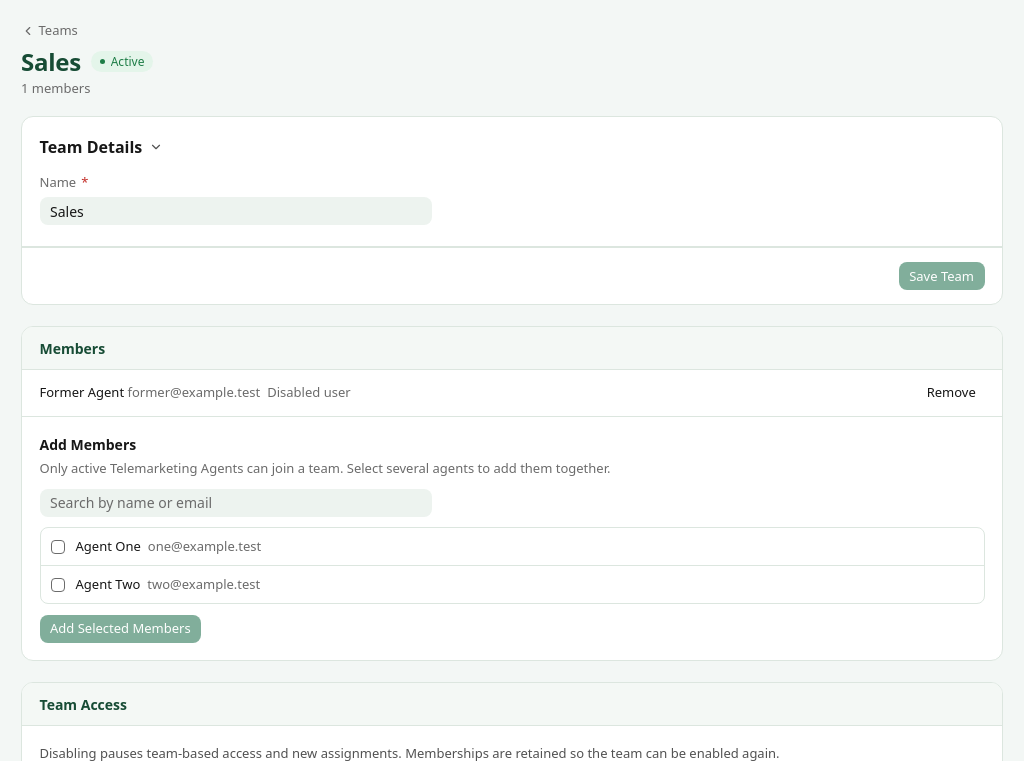
Test: Flexible team management › edits the name and adds several users without hiding disabled existing members
Expected: the heading "Sales" is shown, [21,48,81,76]
Expected: the link "Former Agent former@example.test" is shown, [40,383,260,401]
Replace the text in the field labelled "Name *" with "New Sales": [236, 211] box [40,197,432,225]
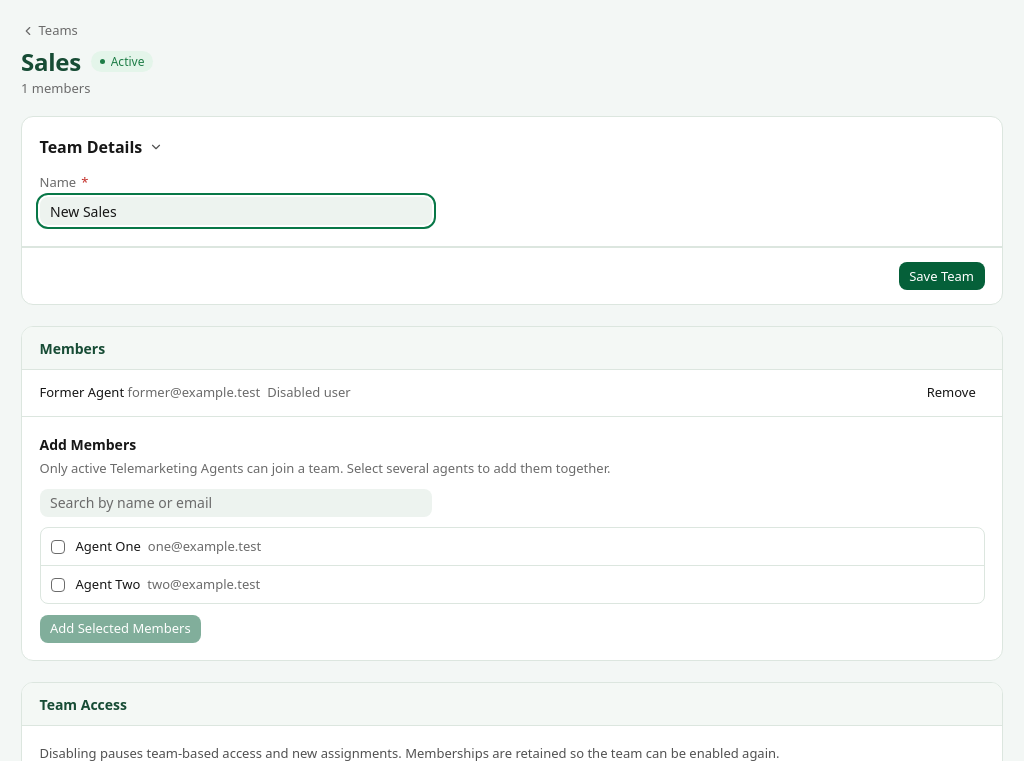
Click the button "Save Team": [942, 276] box [899,262,984,290]
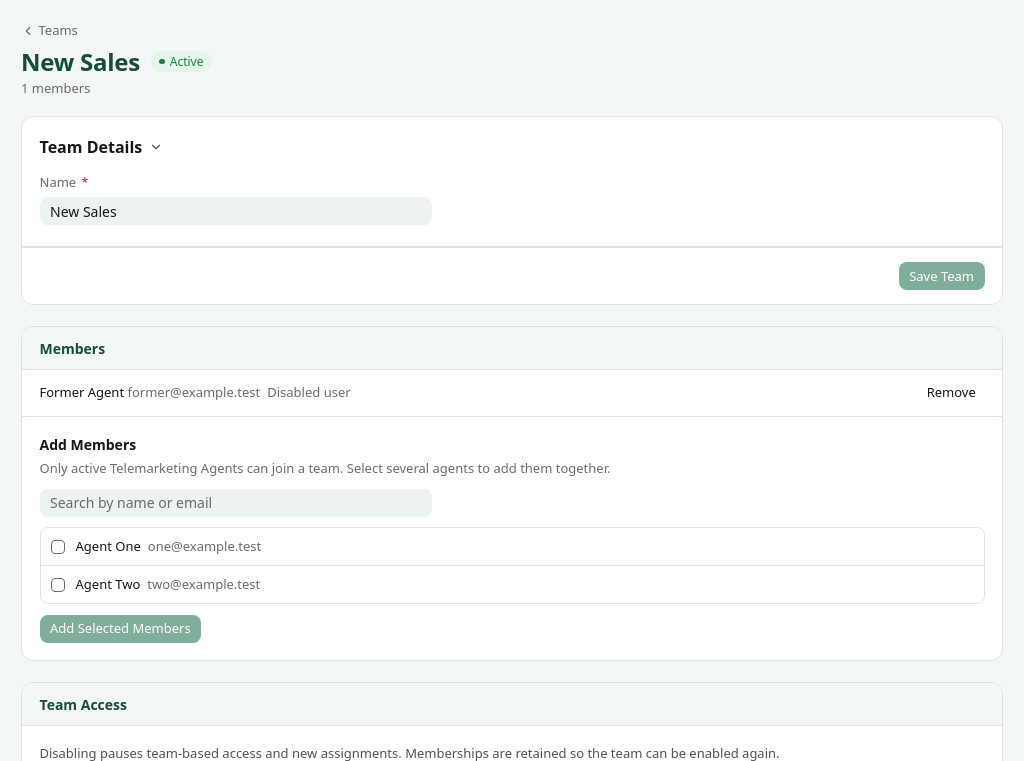
Result: the heading "New Sales" is shown at [21,48,140,76]
Click the checkbox named "Agent One" next to "Agent One": [58, 547] box [51,540,65,554]
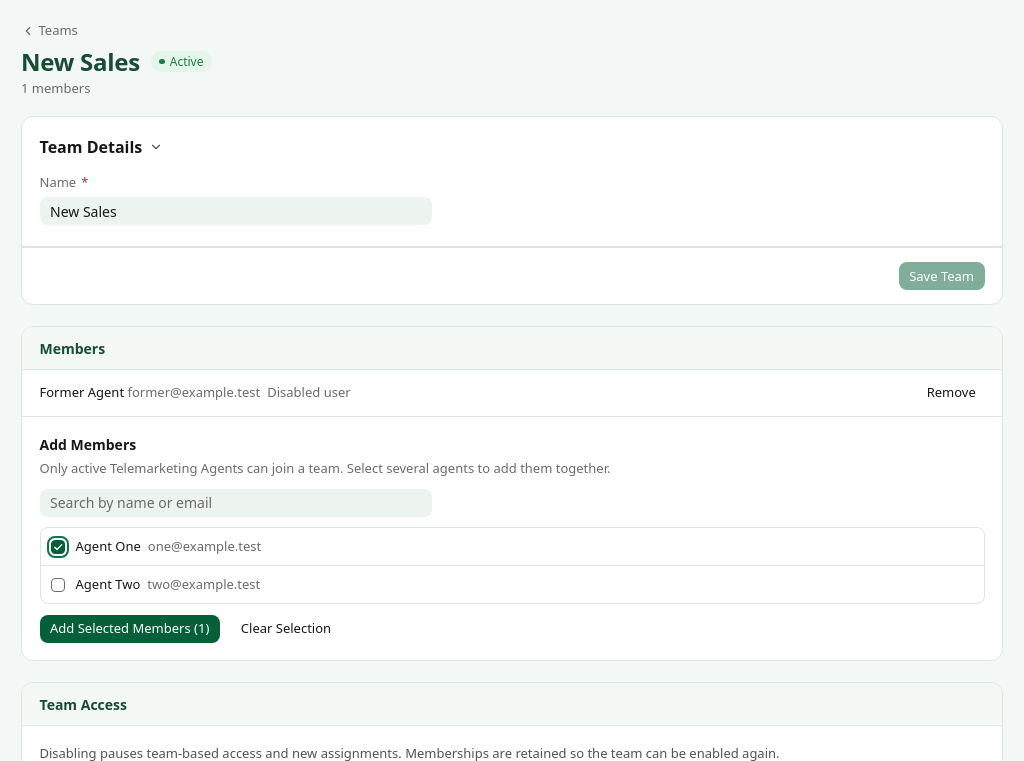
Click the checkbox named "Agent Two" next to "Agent Two": [58, 585] box [51,578,65,592]
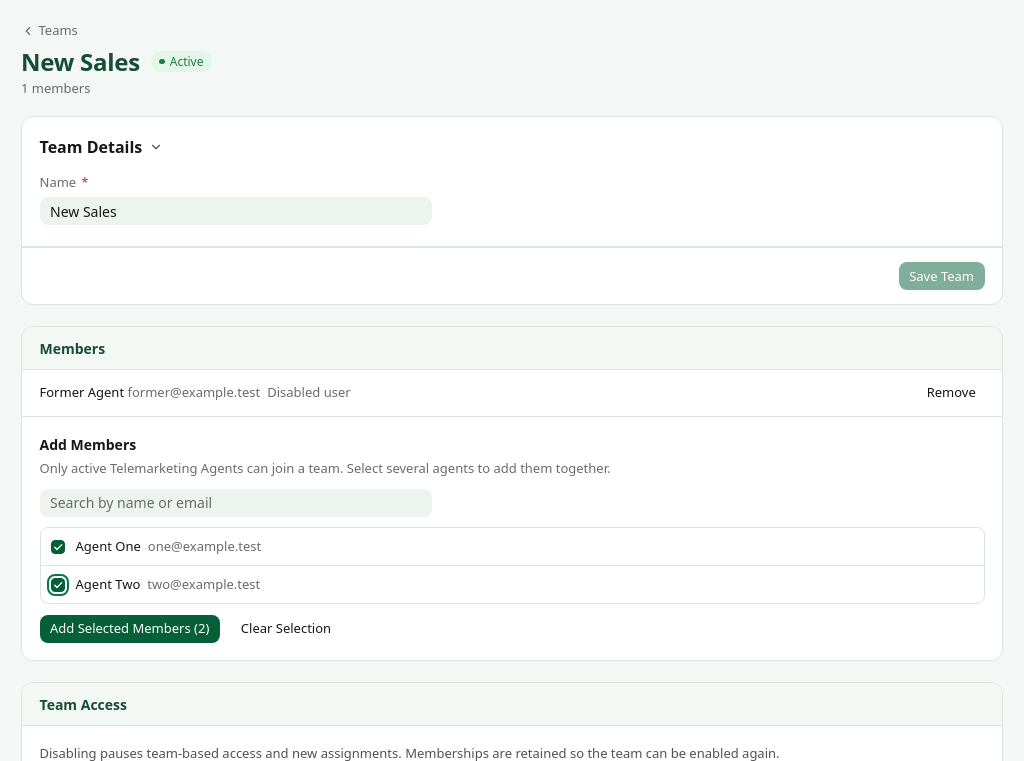
Click the button "Add Selected Members (2)": [130, 629] box [40,615,220,643]
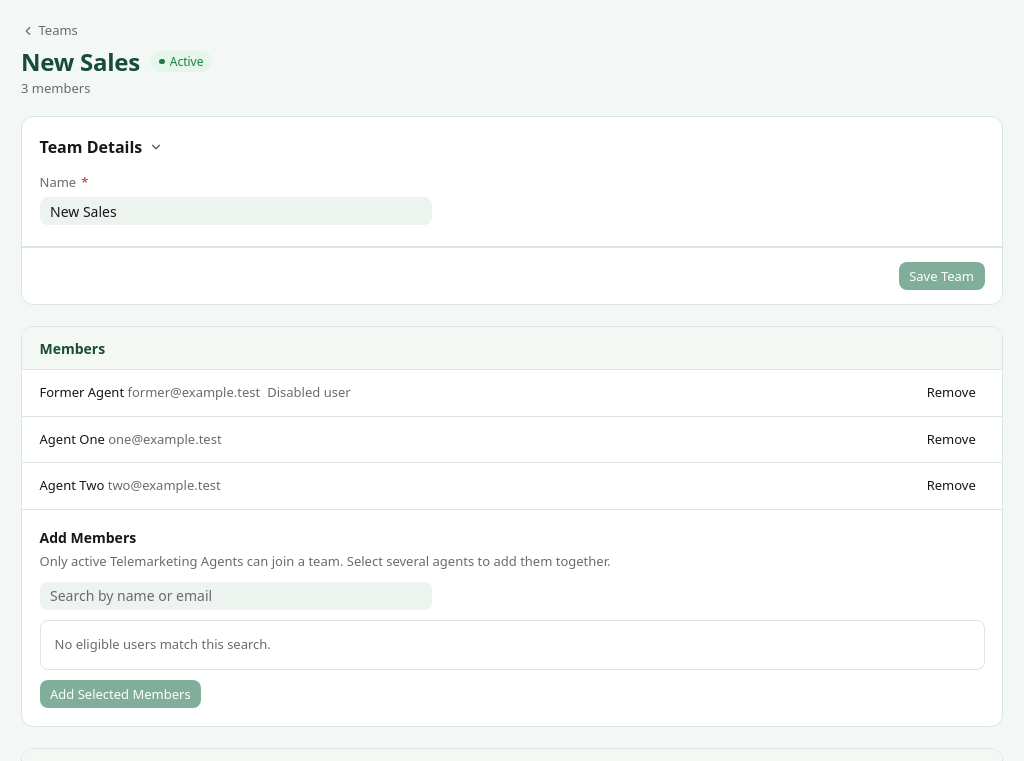
Result: the text "3 members" is shown at [21,79,90,97]
